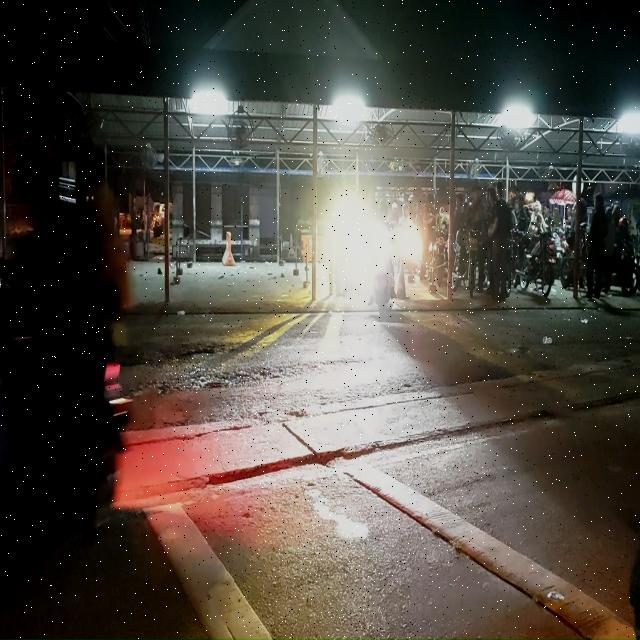Golongan II: (0, 337, 129, 568), (517, 230, 557, 298), (558, 222, 588, 289), (611, 239, 638, 296), (373, 260, 394, 318), (429, 225, 448, 288), (452, 228, 468, 290), (468, 228, 482, 298)
